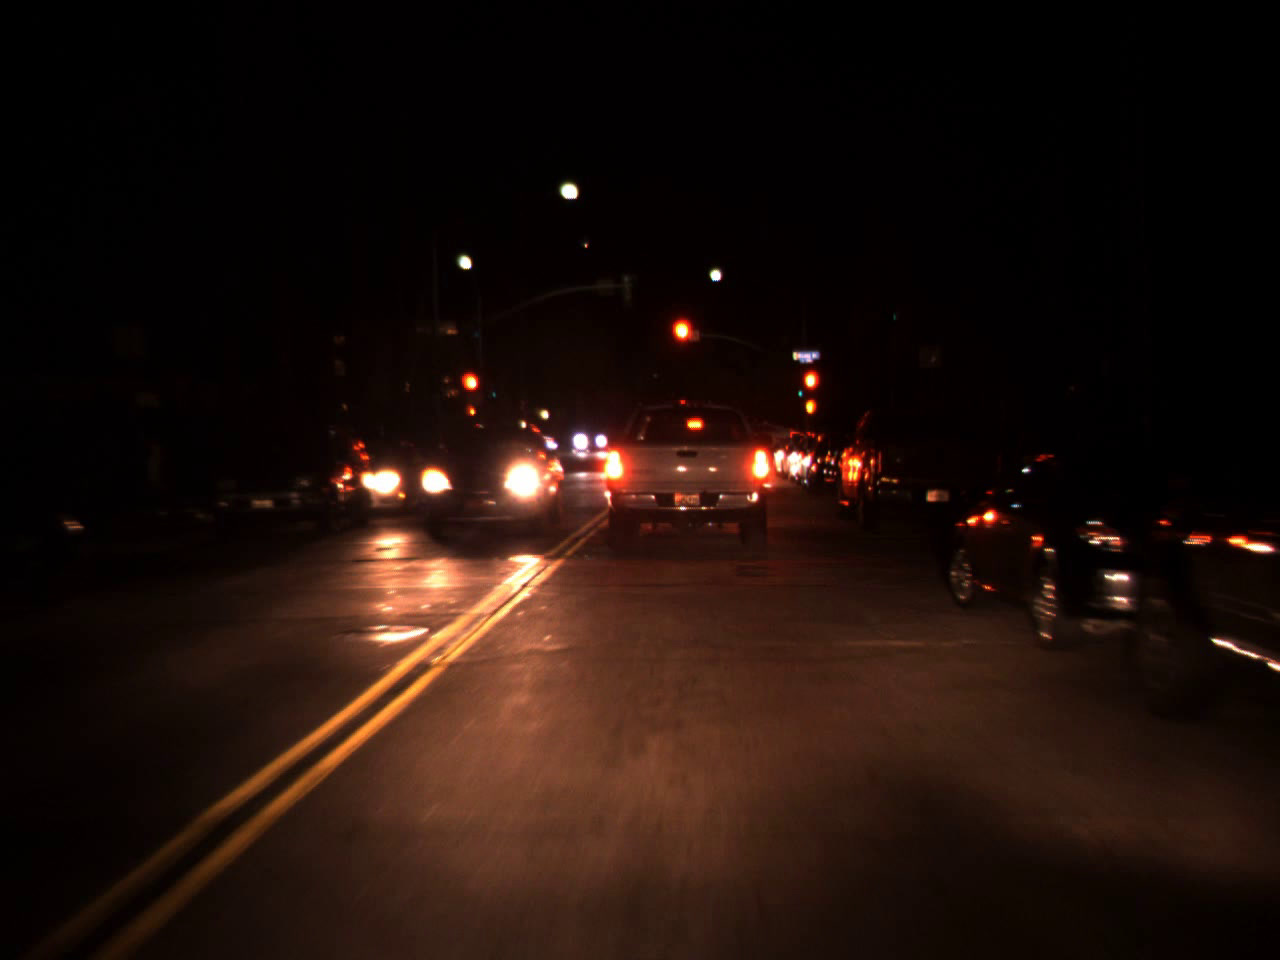stop: (668, 315, 696, 369), (458, 370, 482, 413), (800, 367, 821, 412)
